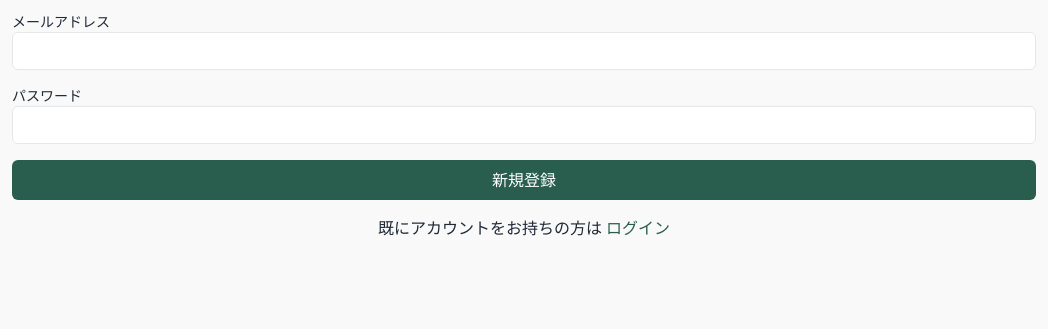
AuthForm › サインアップモード › 既存のメールアドレスでエラーメッセージが表示される
The image size is (1048, 329).
Type "existing@example.com" into the field labelled "メールアドレス" at (524, 51), box [12, 32, 1036, 70]
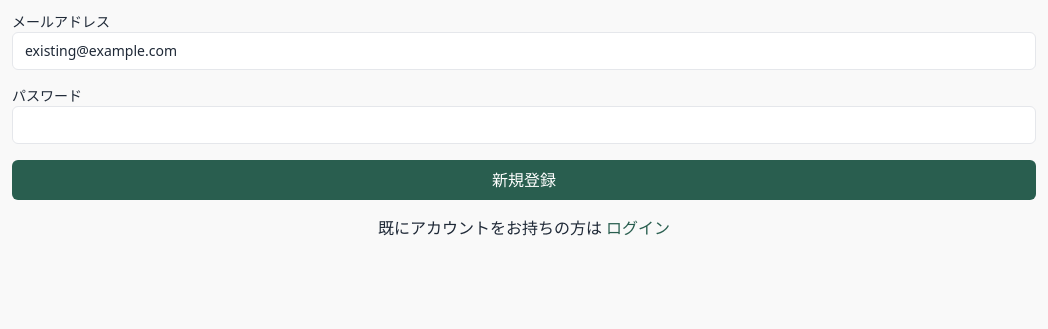
Type "password123" into the password field labelled "パスワード" at (524, 125), box [12, 106, 1036, 144]
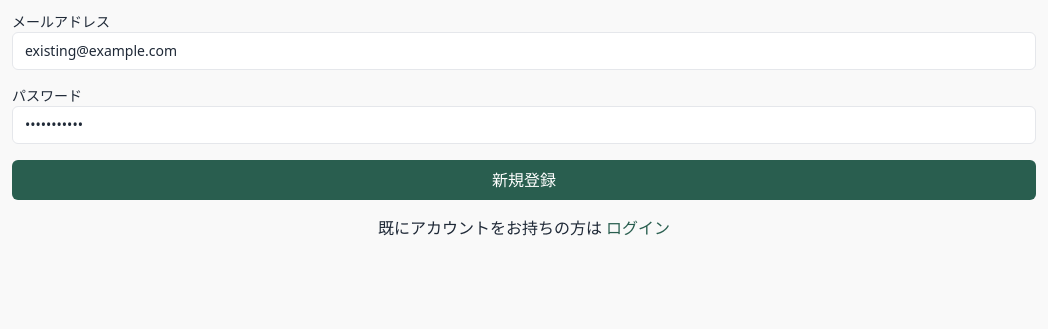
Click the button "新規登録" at (524, 180), box [12, 160, 1036, 200]
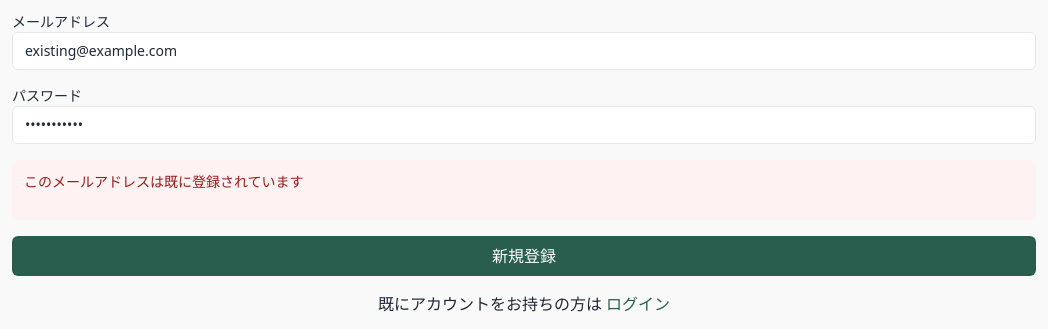
Result: the text "このメールアドレスは既に登録されています" is shown at [24, 172, 304, 191]
